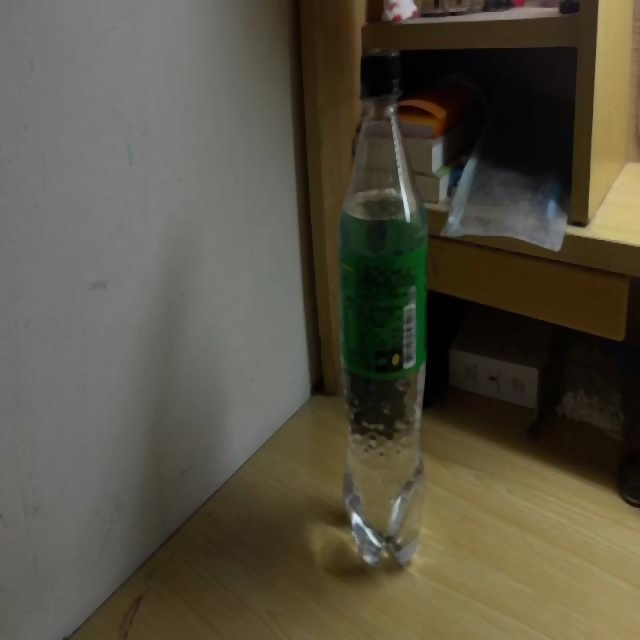Sprite: (338, 46, 428, 565)
